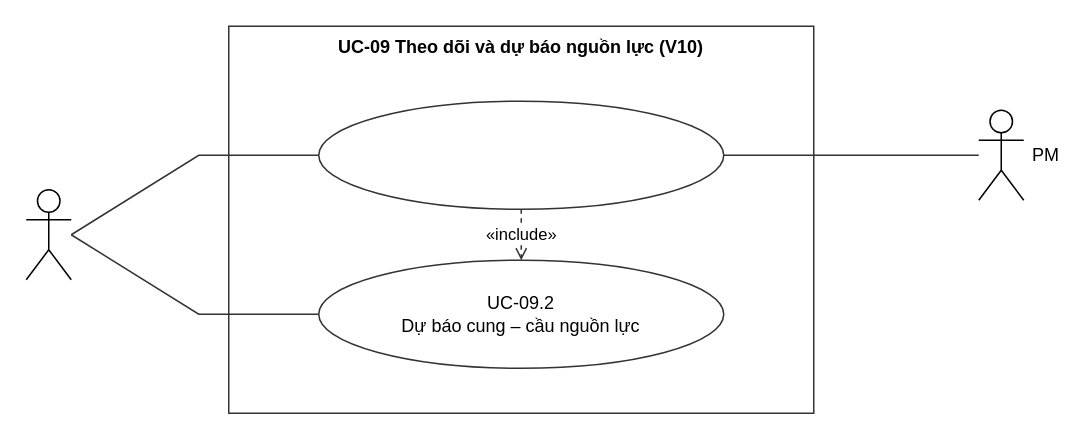
Some shapes in this 1086 by 440 pixel diagram are drawn without their labels. Each missing label, with the centre of its shape:
"RM" belongs at point (48, 234).
"UC-09.1 Tổng hợp và phân tích cung – cầu nguồn lực" belongs at point (520, 154).
